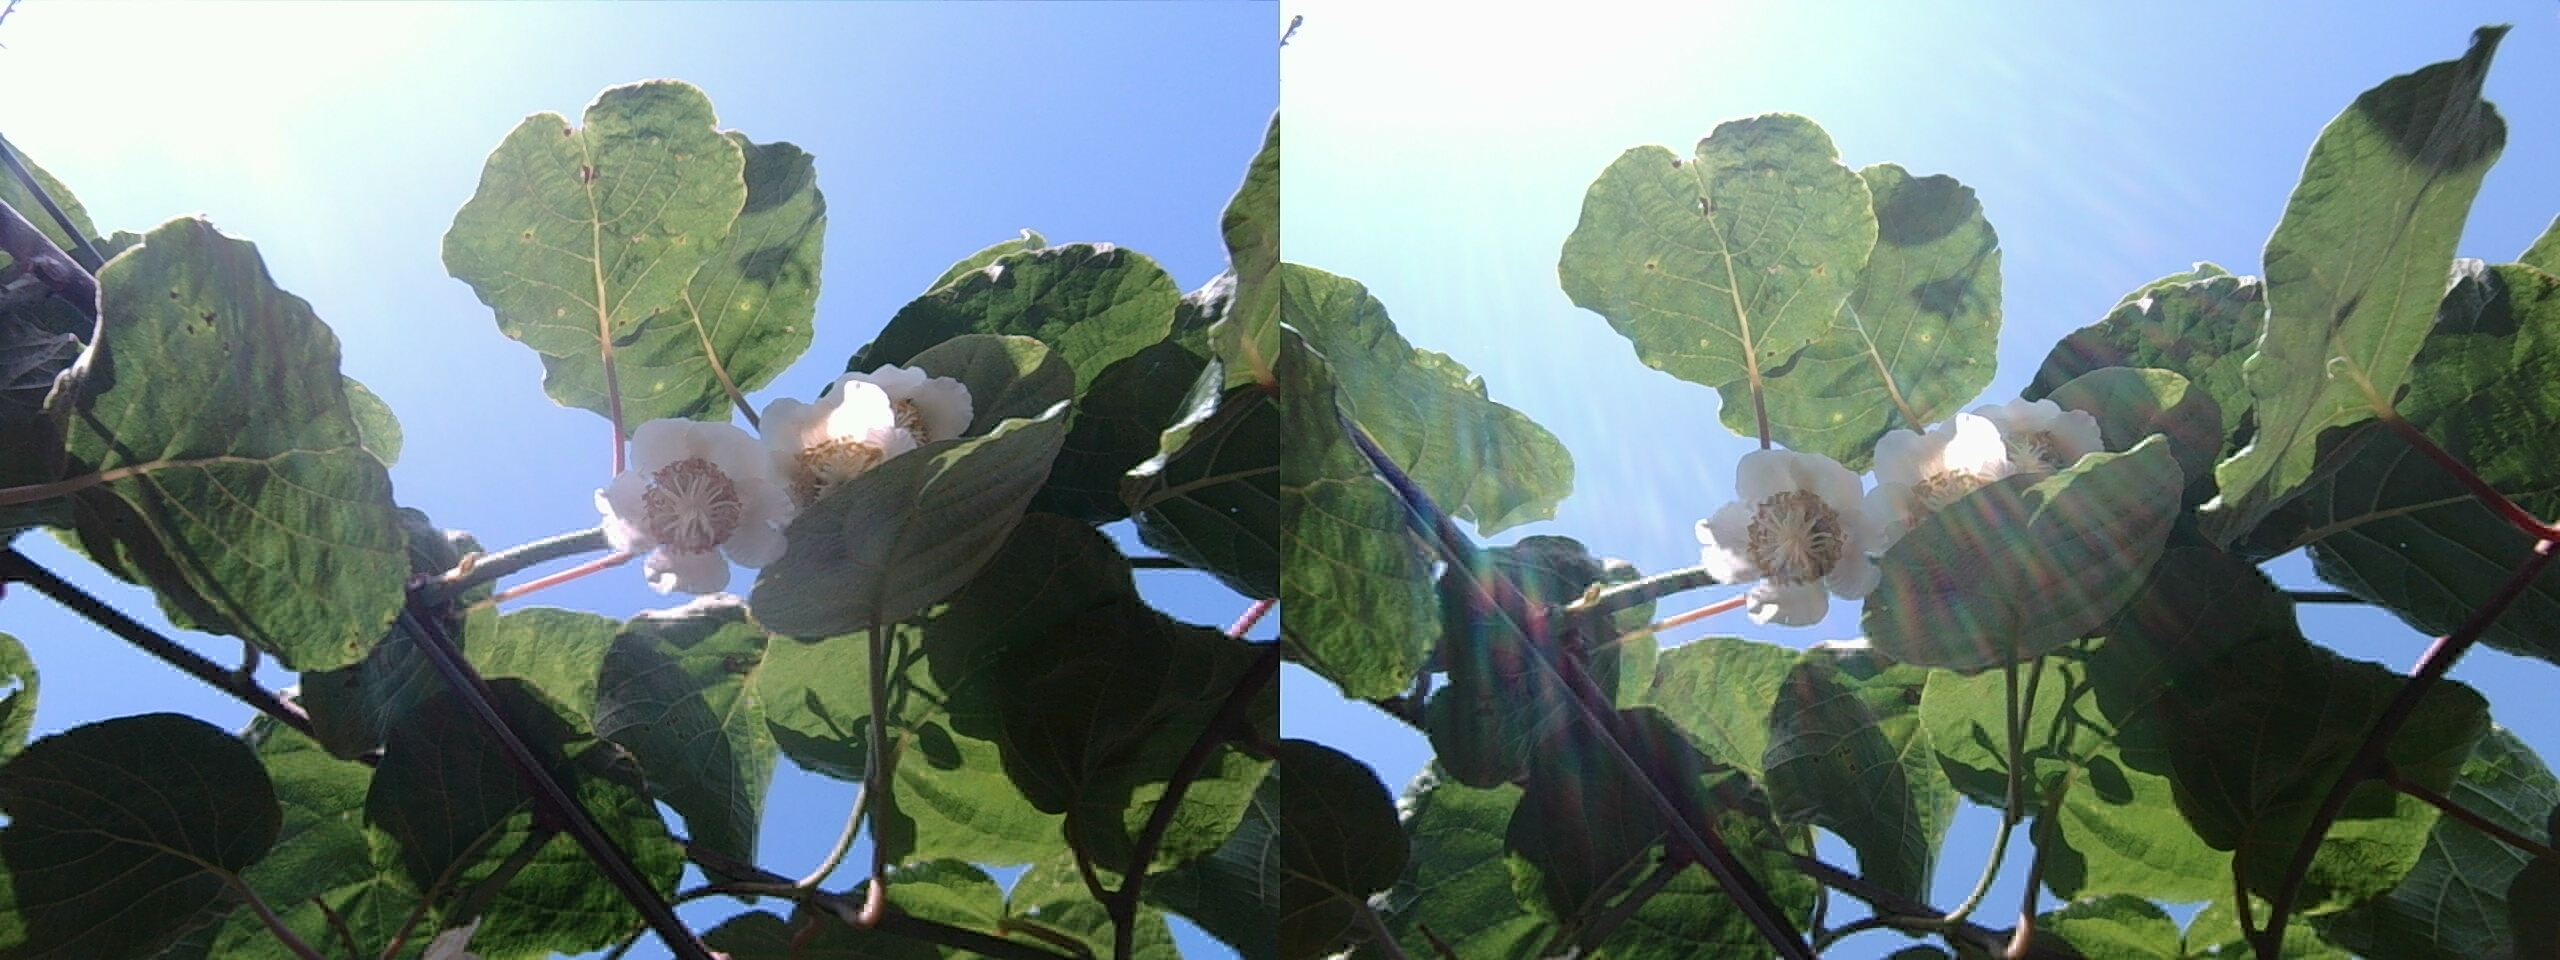flower: (593, 402, 798, 589), (1690, 442, 1892, 625), (762, 385, 921, 519)
